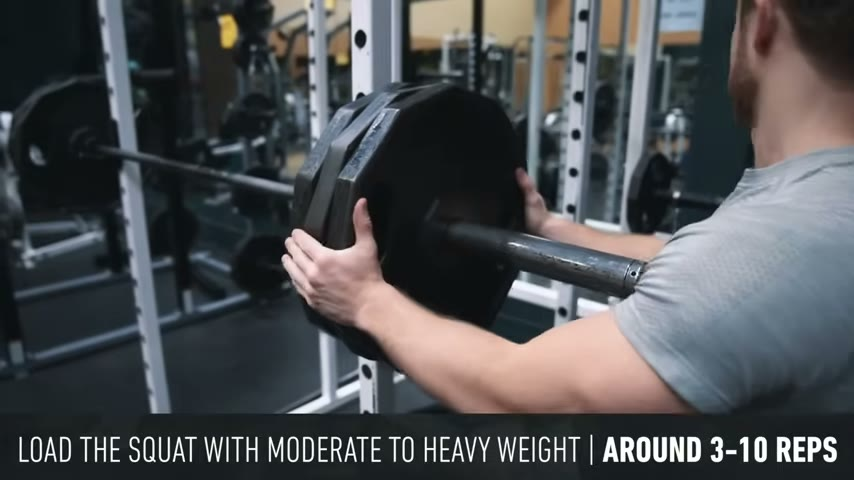barbell_plate_side: (276, 72, 407, 419)
